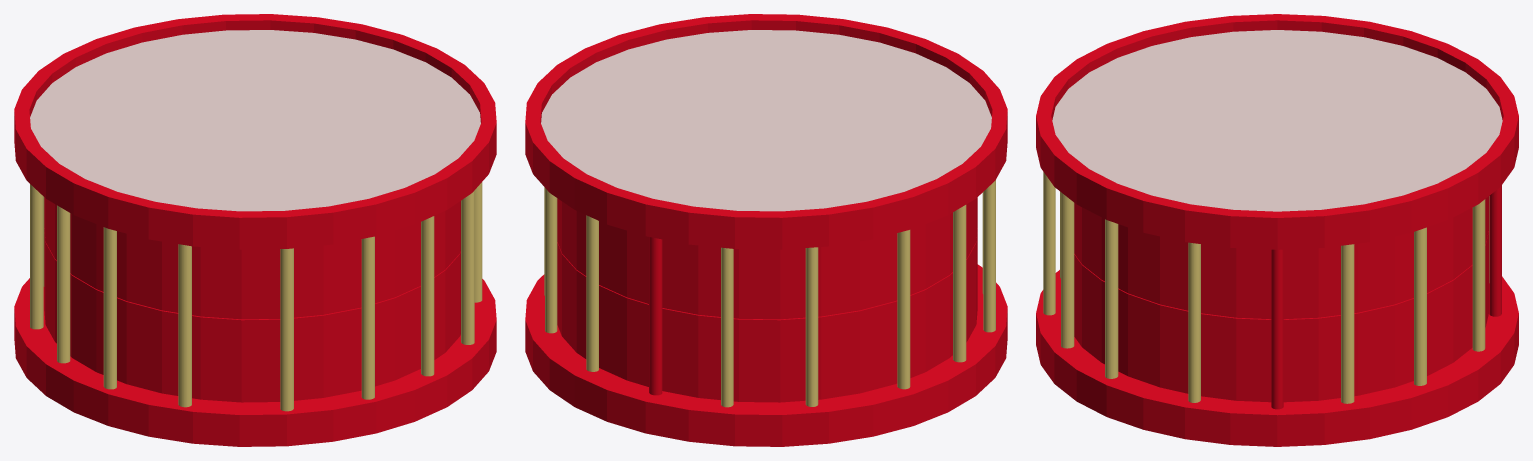
File: tambor.dae
The picture shows the model from 3 angles, left to right: view 1: azimuth 30°, elevation 25°; view 2: azimuth 150°, elevation 25°; view 3: azimuth 270°, elevation 25°; orthographic projection.
Parts seen in each view (by area): view 1: Cylinder; view 2: Cylinder; view 3: Cylinder.
Part boxes in pixels (box(x1,y1,x2,y2)): Cylinder: box(14, 14, 496, 446); Cylinder: box(525, 14, 1007, 446); Cylinder: box(1036, 14, 1518, 446).
Bounding box in the file's own units: 1.35 × 1.35 × 0.7076.
